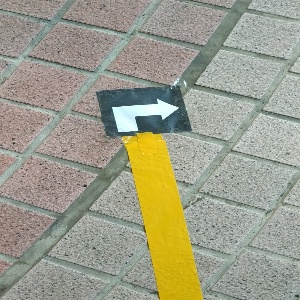right: (95, 84, 190, 135)
